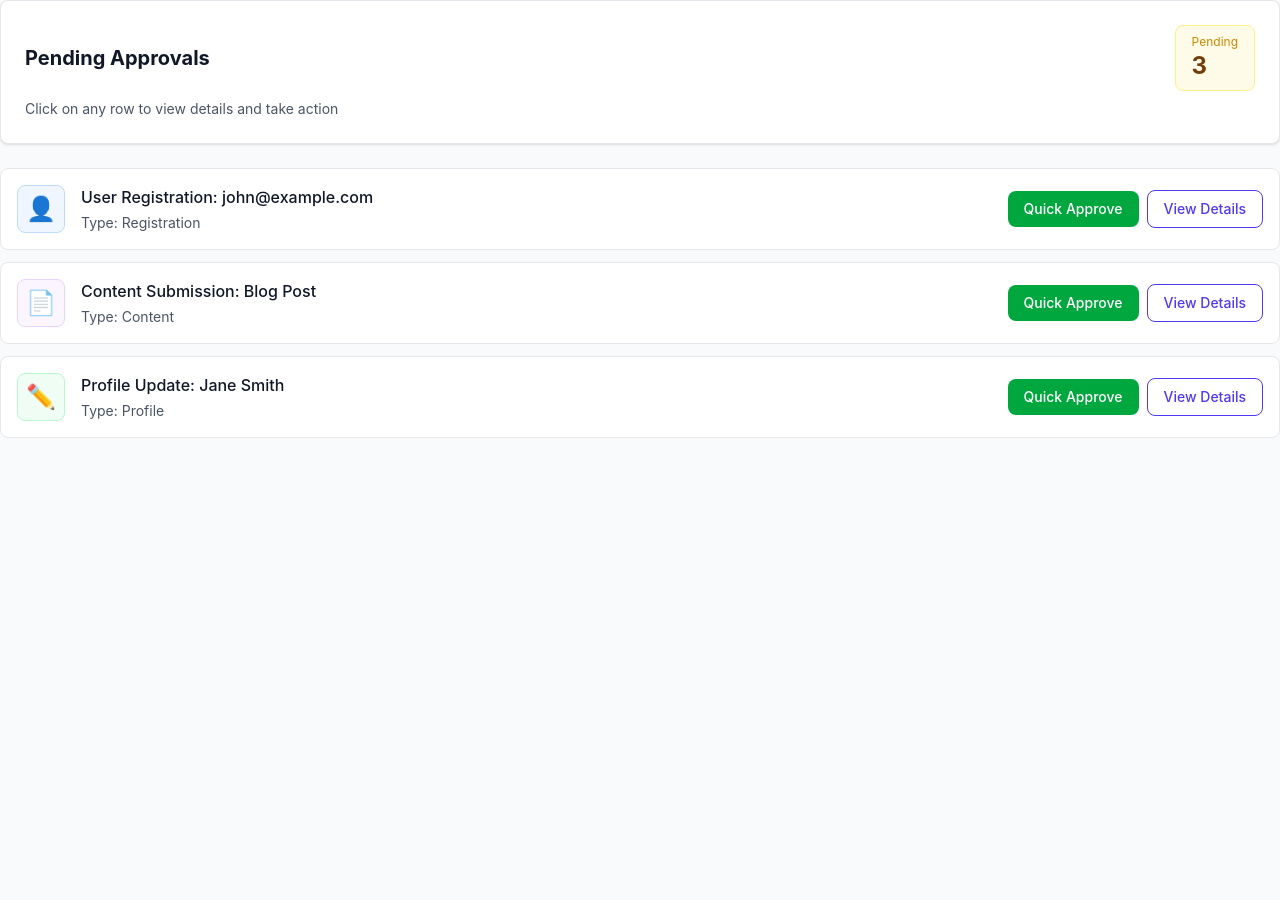
Test: Desafio 6: Problemas de Propagação de Eventos Aninhados › deve abrir o modal ao clicar na linha de aprovação
Click the element with test id "approval-row-1". click: (640, 209)
box: top-left (0, 168), bottom-right (1279, 250)
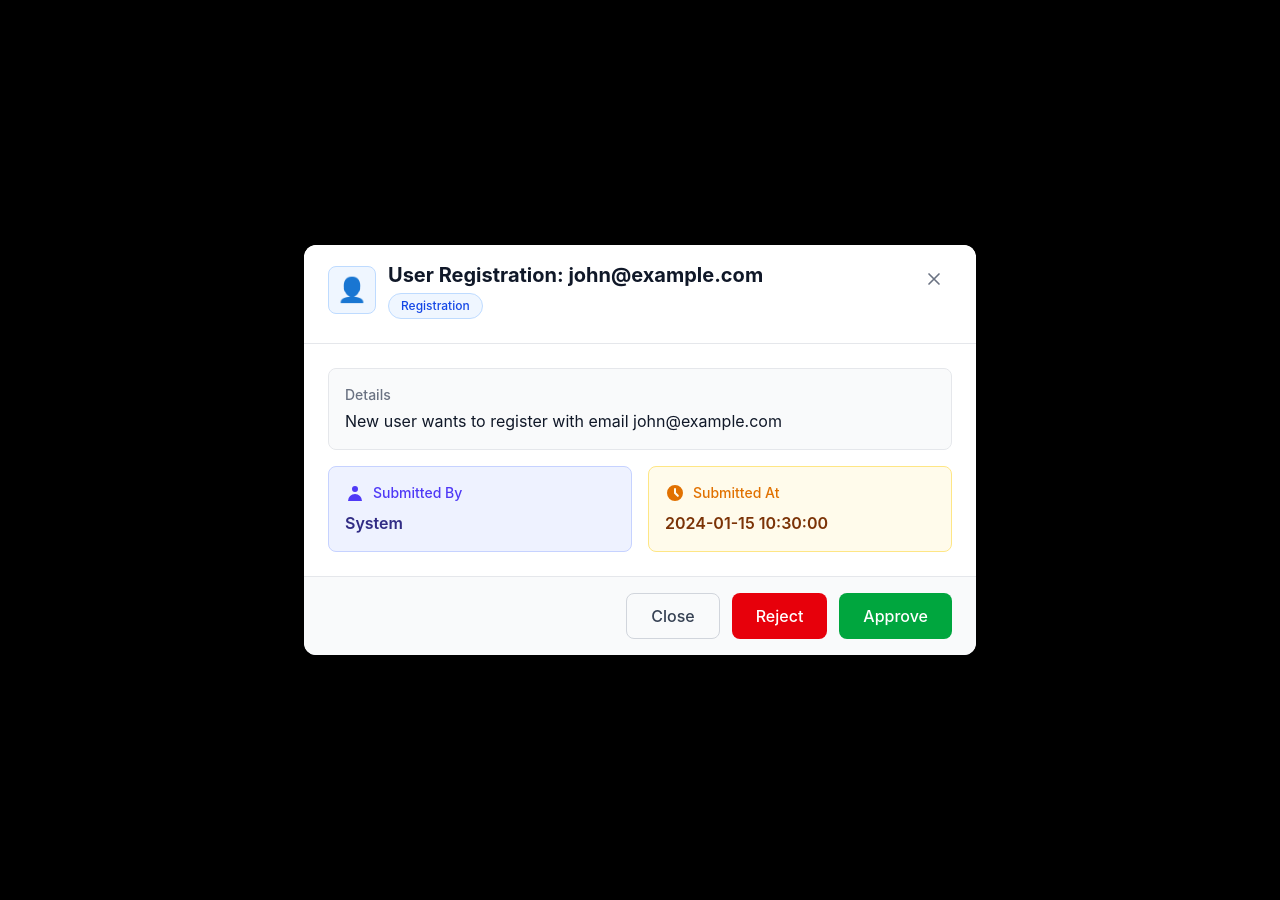
Result: the element with test id "modal-backdrop" is shown
Result: the heading with test id "modal-title" reads "User Registration: john@example.com" at top-left (388, 263), bottom-right (763, 287)
